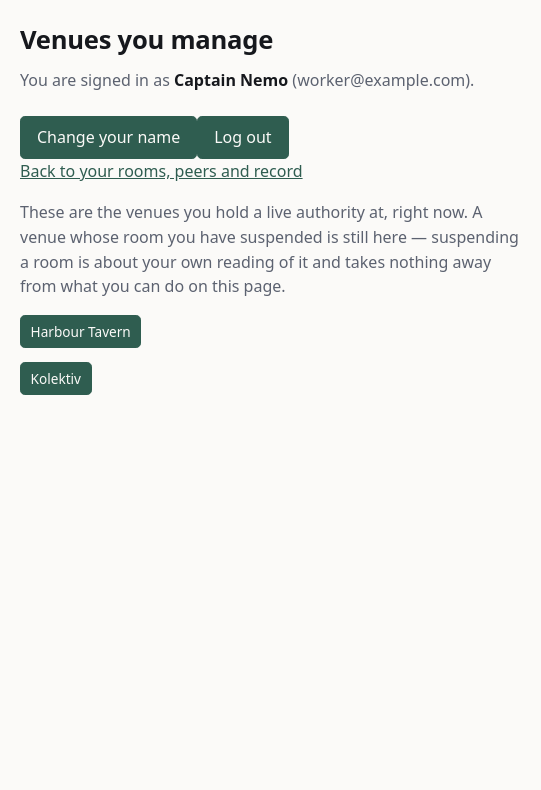
Test: a shift's roster › names an entry whose engagement is not on the venue's people list
Click the button "Harbour Tavern" at (81, 332), box [20, 315, 141, 348]
(page scrolled)
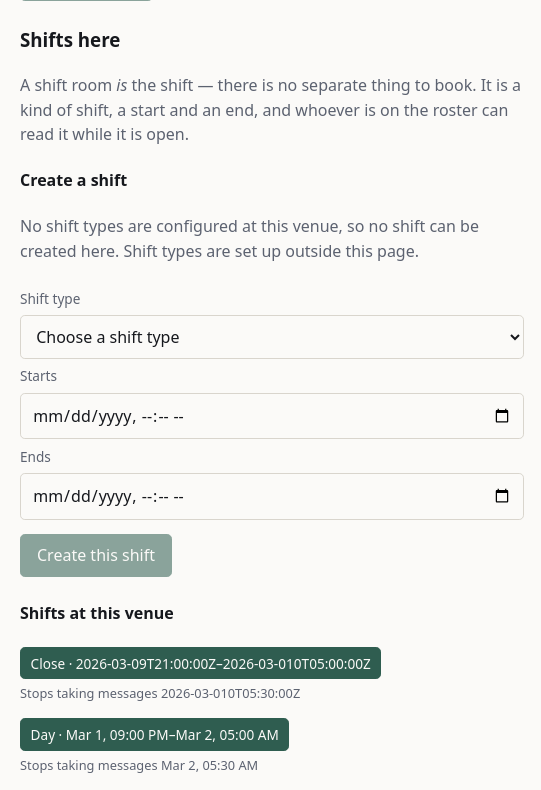
Click the button "Close · 2026-03-09T21:00:00Z–2026-03-010T05:00:00Z" at (201, 663), box [20, 647, 381, 680]
(page scrolled)
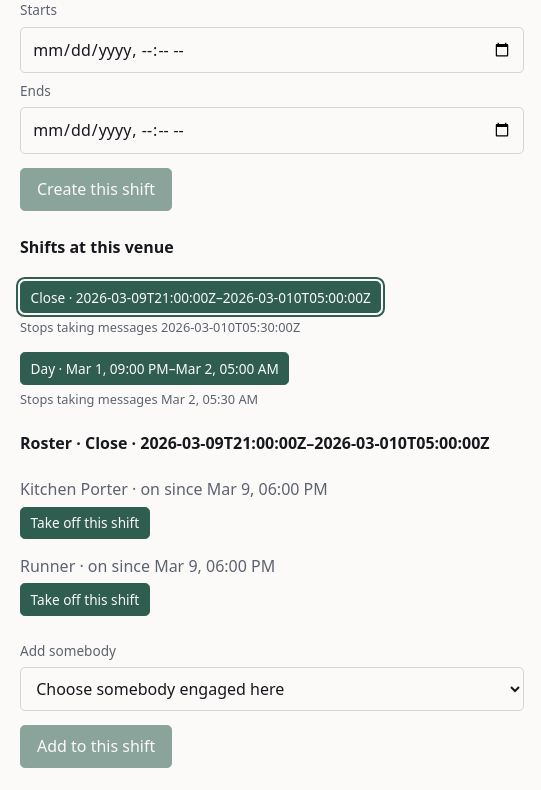
Now the list named "on this shift" shows "Kitchen Porter", box [20, 478, 328, 500]
Now the list named "on this shift" shows "Runner", box [20, 555, 275, 577]
